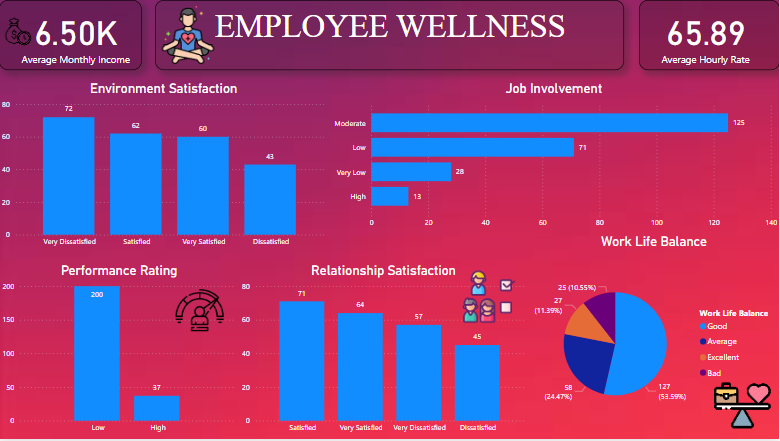

What the dashboard file says about the page in this screenshot:
{"tool":"powerbi","page":{"name":"Page 4","canvas":[1280,720],"ordinal":3},"visuals":[{"type":"textbox","box":[255.7,0,768.9,114.8],"z":0},{"type":"card","fields":{"Values":["Avg(HR-Employee-Attrition.MonthlyIncome)"]},"box":[0,0,234.4,114.8],"z":1000},{"type":"card","fields":{"Values":["Avg(HR-Employee-Attrition.HourlyRate)"]},"box":[1049.2,0,231.1,114.8],"z":2000},{"type":"columnChart","title":"Environment Satisfaction","fields":{"Category":["HR-Employee-Attrition.EnvironmentSatisfaction (groups)"],"Y":["Sum(HR-Employee-Attrition.Attrition Count)"]},"box":[0,132.8,539.3,282],"z":3000},{"type":"columnChart","title":"Performance Rating","fields":{"Category":["HR-Employee-Attrition.PerformanceRating 2"],"Y":["Sum(HR-Employee-Attrition.Attrition Count)"]},"box":[0,431.1,393.4,288.5],"z":4000},{"type":"columnChart","title":"Relationship Satisfaction","fields":{"Y":["Sum(HR-Employee-Attrition.Attrition Count)"],"Category":["HR-Employee-Attrition.RelationshipSatisfaction (groups)"]},"box":[393.4,431.1,473.8,288.5],"z":5000},{"type":"barChart","title":"Job Involvement","fields":{"Category":["HR-Employee-Attrition.JobInvolvement (groups)"],"Y":["Sum(HR-Employee-Attrition.Attrition Count)"]},"box":[539.3,132.8,741,250.8],"z":6000},{"type":"pieChart","title":"Work Life Balance","fields":{"Category":["HR-Employee-Attrition.WorkLifeBalance (groups)"],"Y":["Sum(HR-Employee-Attrition.Attrition Count)"]},"box":[867.2,383.6,413.1,336.1],"z":7000},{"type":"image","box":[1167.2,613.1,103.3,103.3],"z":7001},{"type":"image","box":[257.4,0,104.9,114.8],"z":7002},{"type":"image","box":[752.5,437.7,101.6,96.7],"z":7003},{"type":"image","box":[0,23,62.3,57.4],"z":7004},{"type":"image","box":[270.5,463.9,116.4,88.5],"z":7005}]}

Visuals, with their boxes in screenshot pixels (x1, y1, x2, y2), scaled from the page's 1280x720 canvas onto the 780x441 screenshot:
textbox: bbox=[156, 0, 624, 70]
card - Avg(HR-Employee-Attrition.MonthlyIncome): bbox=[0, 0, 143, 70]
card - Avg(HR-Employee-Attrition.HourlyRate): bbox=[639, 0, 779, 70]
"Environment Satisfaction" columnChart: bbox=[0, 81, 329, 254]
"Performance Rating" columnChart: bbox=[0, 264, 240, 440]
"Relationship Satisfaction" columnChart: bbox=[240, 264, 528, 440]
"Job Involvement" barChart: bbox=[329, 81, 779, 235]
"Work Life Balance" pieChart: bbox=[528, 235, 779, 440]
image: bbox=[711, 376, 774, 439]
image: bbox=[157, 0, 221, 70]
image: bbox=[459, 268, 520, 327]
image: bbox=[0, 14, 38, 49]
image: bbox=[165, 284, 236, 338]
